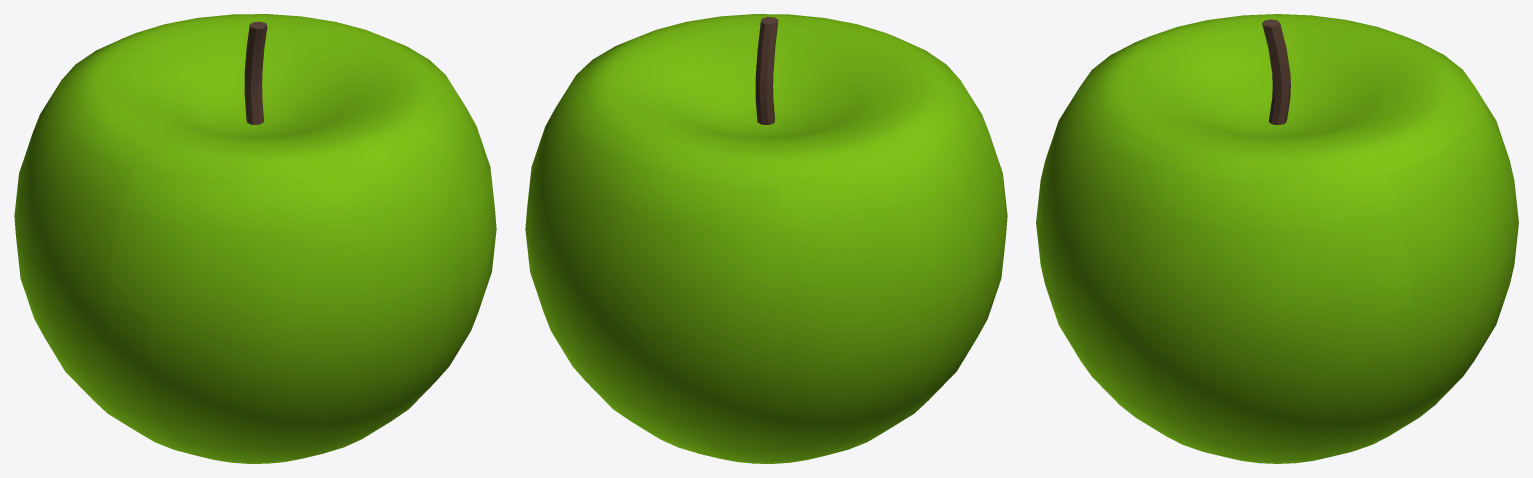
The model's file is green_apple.glb.
3 renders of one model, left to right at view 1: azimuth 30°, elevation 25°; view 2: azimuth 150°, elevation 25°; view 3: azimuth 270°, elevation 25°, orthographic.
Parts seen in each view (by area): view 1: green_apple; view 2: green_apple; view 3: green_apple.
Part boxes in pixels (left/top/right/bottom): green_apple: left=14, top=14, right=496, bottom=463; green_apple: left=525, top=14, right=1007, bottom=463; green_apple: left=1036, top=14, right=1518, bottom=463.
Size of the model in its own units: 0.06 by 0.0574 by 0.06.
Materials: 2 (2 with a texture image).
